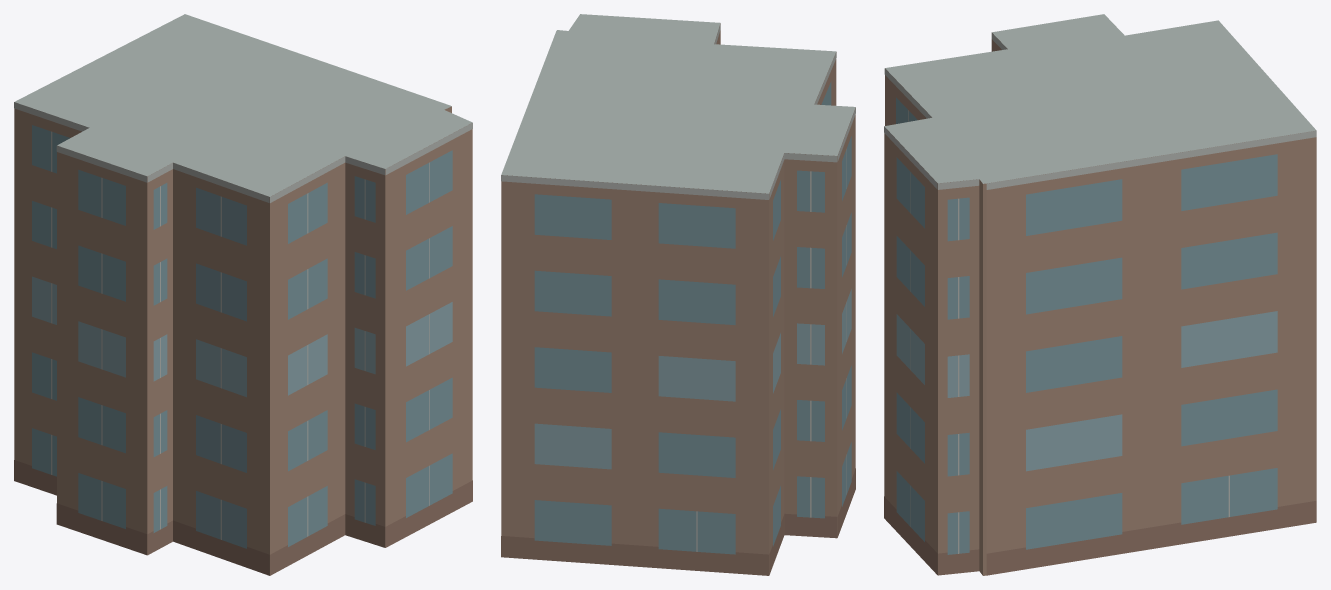
Rendered from survey-upis-33000898.glb.
The picture shows the model from 3 angles, left to right: view 1: azimuth 30°, elevation 25°; view 2: azimuth 150°, elevation 25°; view 3: azimuth 270°, elevation 25°; orthographic projection. The views are drawn at different scales.
Visible parts, largest first — view 1: survey-upis-33000898.tmp; view 2: survey-upis-33000898.tmp; view 3: survey-upis-33000898.tmp.
Boxes of the visible parts, left/top/right/bottom form: survey-upis-33000898.tmp: left=14, top=14, right=472, bottom=575; survey-upis-33000898.tmp: left=501, top=14, right=855, bottom=575; survey-upis-33000898.tmp: left=884, top=14, right=1316, bottom=575.
Bounding box in the file's own units: 13.48 × 14.5 × 14.5.
